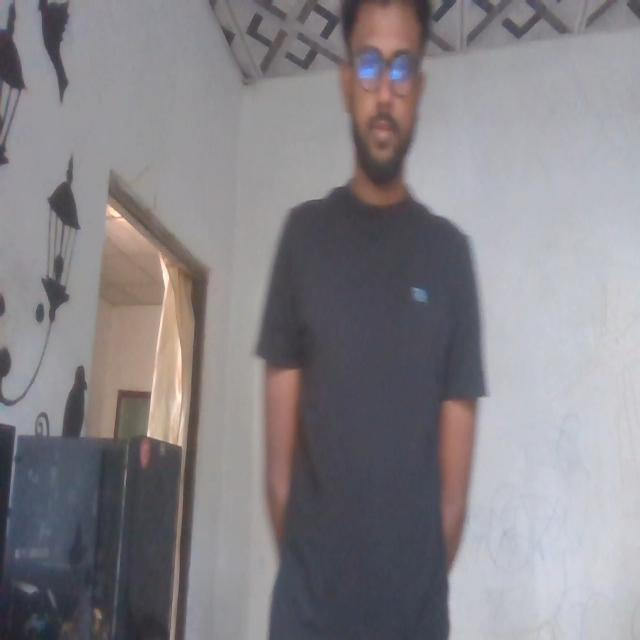Person: (267, 0, 497, 640)
